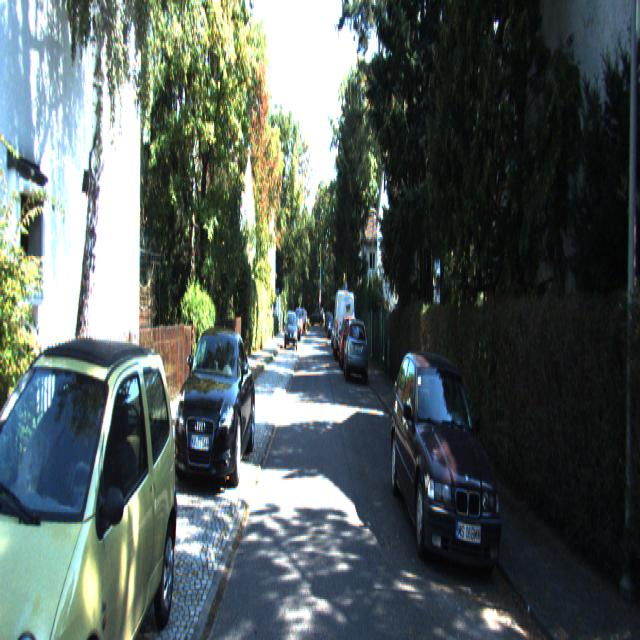Car: (0, 331, 183, 638), (388, 340, 509, 587), (173, 322, 255, 498), (334, 287, 356, 362), (344, 315, 368, 383), (285, 309, 297, 350)
